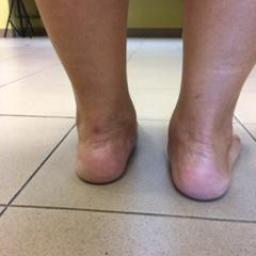Back View -Both Feet-: (54, 58, 251, 210)
